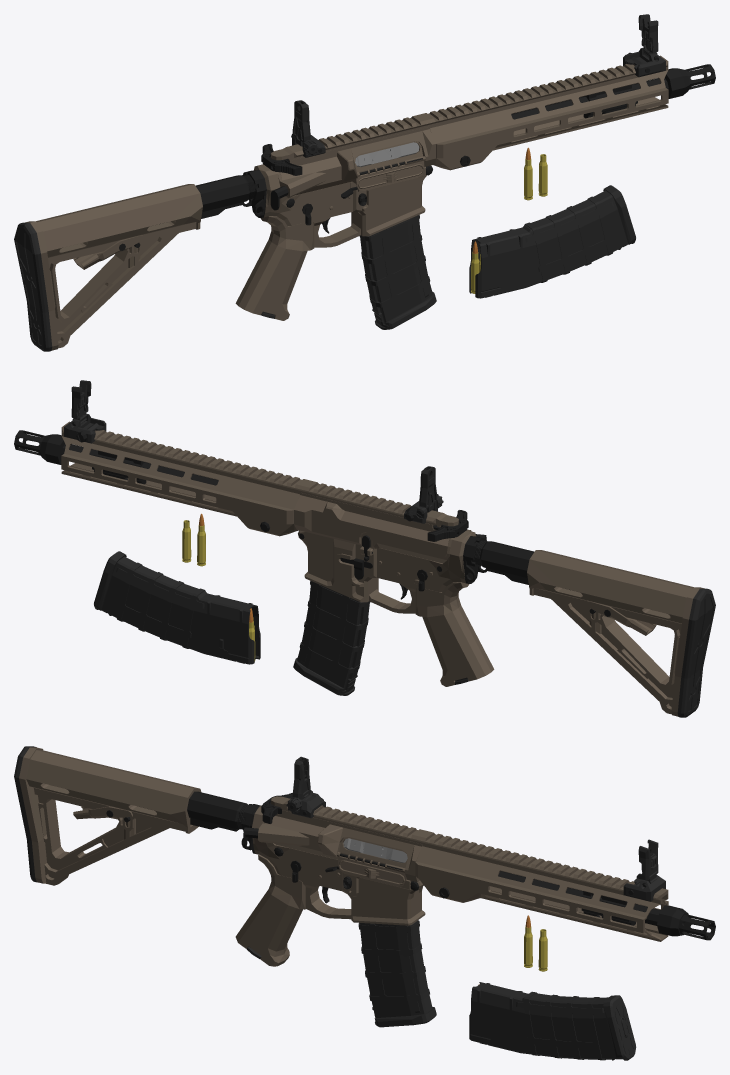
Rendered from low-poly_sako_m23_5.56mm.glb.
The picture shows the model from 3 angles, top to bottom: view 1: azimuth 30°, elevation 25°; view 2: azimuth 150°, elevation 25°; view 3: azimuth 330°, elevation 25°; orthographic projection.
Visible parts, largest first — view 1: m23 stock_1, m23 forend_11, 55645 ar15 30rnd mag (magpul)_18, m23 lower receiver_3, m23 upper receiver_5, 55645 ar15 30rnd mag empty (magpul)_19, m23 pistol grip_15, magpul mbus pro front iron sight_13, m23 dust covet_8, m23 flash hider_12, magpul mbus pro rear iron sight_14, m23 barrel_4 (+2 smaller); view 2: m23 stock_1, m23 forend_11, 55645 ar15 30rnd mag (magpul)_18, m23 lower receiver_3, m23 upper receiver_5, 55645 ar15 30rnd mag empty (magpul)_19, m23 pistol grip_15, magpul mbus pro front iron sight_13, magpul mbus pro rear iron sight_14, m23 flash hider_12, m23 barrel_4, m23 charging handle_0; view 3: m23 stock_1, m23 forend_11, 55645 ar15 30rnd mag (magpul)_18, m23 lower receiver_3, m23 upper receiver_5, 55645 ar15 30rnd mag empty (magpul)_19, m23 pistol grip_15, m23 dust covet_8, magpul mbus pro front iron sight_13, m23 flash hider_12, magpul mbus pro rear iron sight_14, m23 barrel_4 (+1 smaller).
Part boxes in pixels (x1,y1,x2,y2): m23 stock_1: [14, 184, 202, 351]; m23 forend_11: [422, 55, 668, 170]; 55645 ar15 30rnd mag (magpul)_18: [469, 185, 635, 298]; m23 lower receiver_3: [159, 164, 432, 247]; m23 upper receiver_5: [270, 114, 435, 210]; 55645 ar15 30rnd mag empty (magpul)_19: [359, 215, 436, 329]; m23 pistol grip_15: [235, 216, 314, 320]; magpul mbus pro front iron sight_13: [623, 14, 665, 77]; m23 dust covet_8: [355, 156, 425, 190]; m23 flash hider_12: [665, 64, 715, 98]; magpul mbus pro rear iron sight_14: [291, 100, 325, 157]; m23 barrel_4: [511, 78, 668, 119]; m23 stock_1: [527, 550, 715, 717]; m23 forend_11: [61, 421, 307, 536]; 55645 ar15 30rnd mag (magpul)_18: [94, 551, 260, 664]; m23 lower receiver_3: [298, 530, 570, 613]; m23 upper receiver_5: [294, 480, 486, 563]; 55645 ar15 30rnd mag empty (magpul)_19: [293, 581, 370, 695]; m23 pistol grip_15: [415, 582, 494, 686]; magpul mbus pro front iron sight_13: [64, 380, 106, 443]; magpul mbus pro rear iron sight_14: [404, 466, 443, 523]; m23 flash hider_12: [14, 430, 64, 464]; m23 barrel_4: [61, 444, 218, 485]; m23 charging handle_0: [427, 510, 468, 541]; m23 stock_1: [14, 746, 201, 885]; m23 forend_11: [415, 831, 668, 941]; 55645 ar15 30rnd mag (magpul)_18: [469, 982, 636, 1060]; m23 lower receiver_3: [148, 791, 425, 925]; m23 upper receiver_5: [243, 796, 429, 885]; 55645 ar15 30rnd mag empty (magpul)_19: [358, 920, 436, 1027]; m23 pistol grip_15: [235, 854, 305, 966]; m23 dust covet_8: [337, 852, 406, 886]; magpul mbus pro front iron sight_13: [623, 839, 665, 901]; m23 flash hider_12: [657, 905, 715, 940]; magpul mbus pro rear iron sight_14: [286, 756, 325, 818]; m23 barrel_4: [498, 871, 661, 925].
Bounding box in the file's own units: 8.14 × 2.77 × 0.6889.
